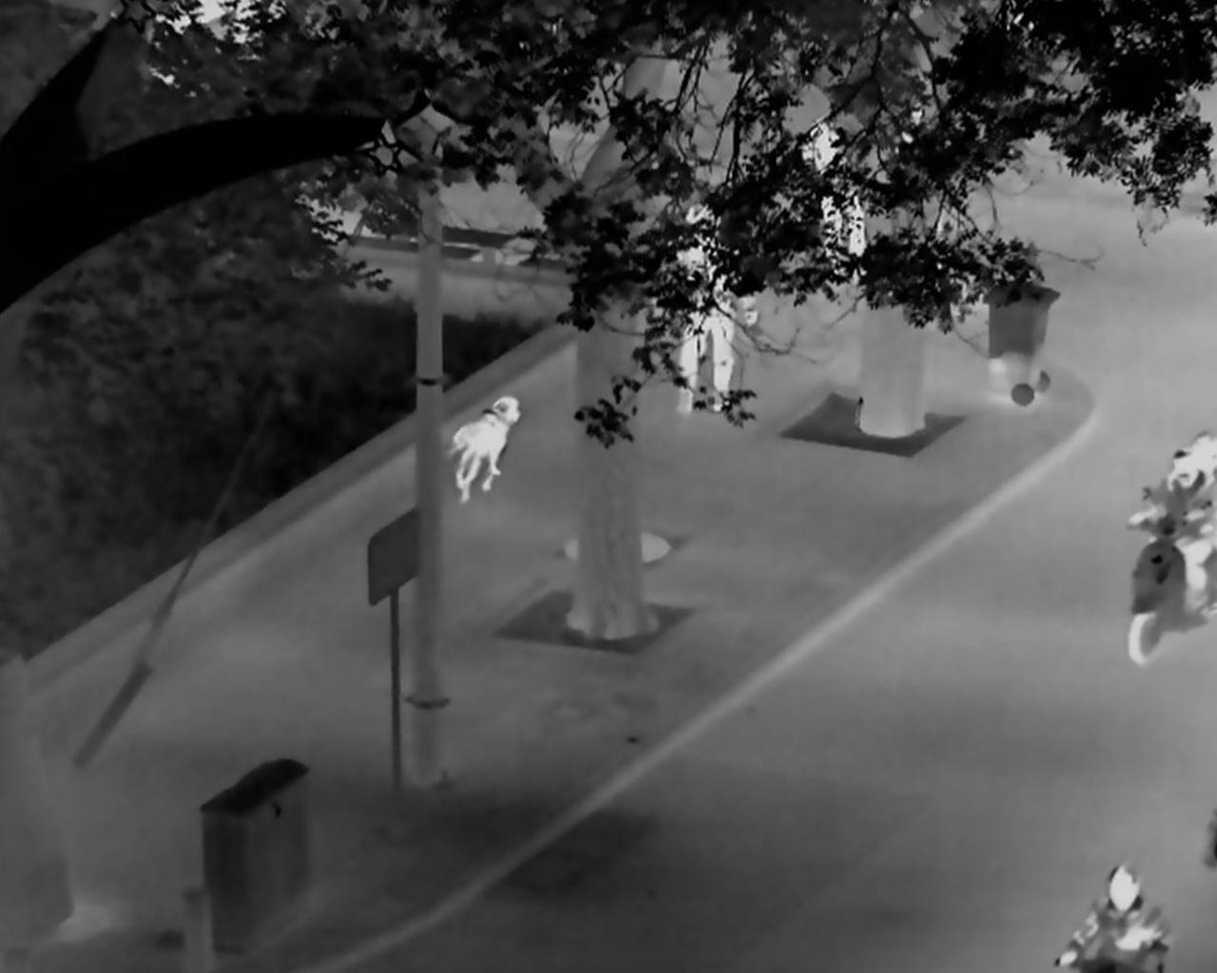person: (649, 196, 758, 415), (1132, 447, 1217, 622), (1054, 864, 1172, 973), (798, 120, 874, 286)
